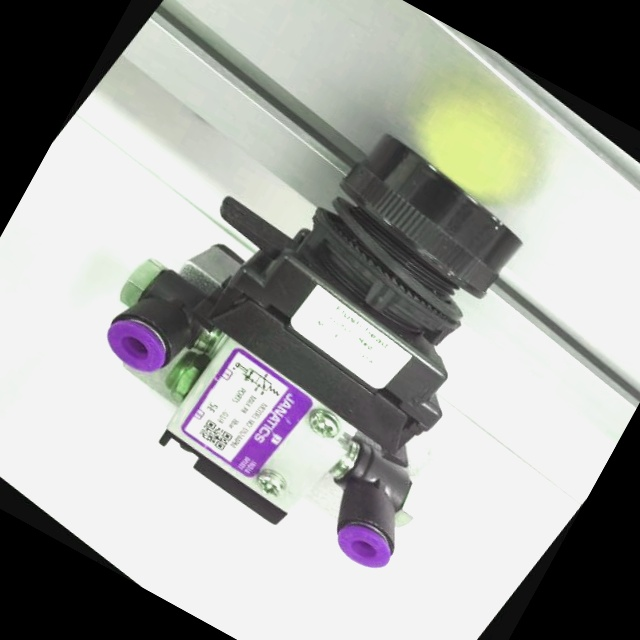push button: (30, 29, 629, 630)
